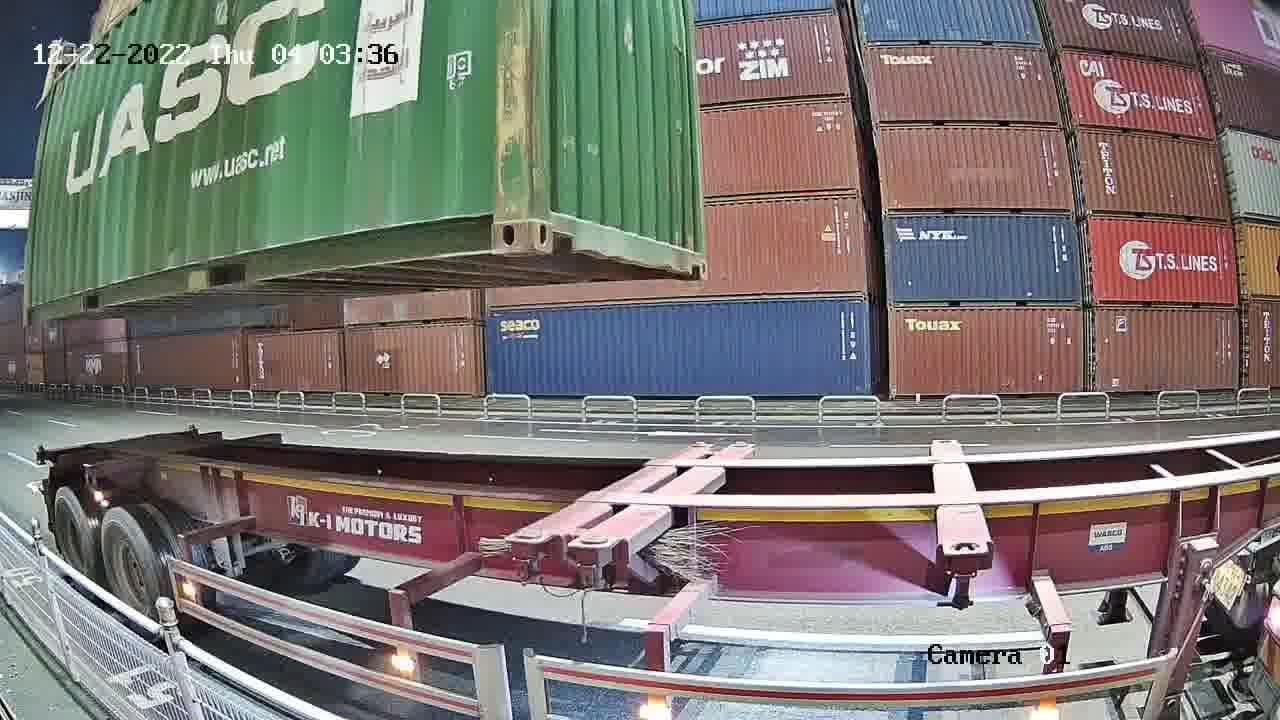Chassis: (511, 442, 716, 545), (569, 444, 754, 551)
Cone: (575, 536, 618, 590), (510, 531, 549, 585)
Hole_L: (531, 184, 585, 256)
Hole_R: (461, 186, 533, 254), (679, 234, 709, 281)
Tire: (100, 511, 159, 616), (56, 492, 92, 570)
